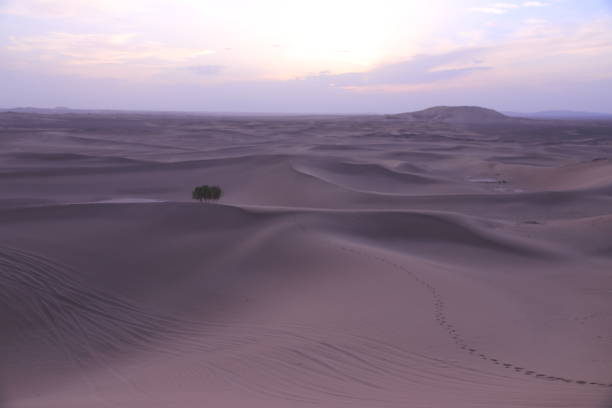human_footprint: (350, 254, 611, 407)
